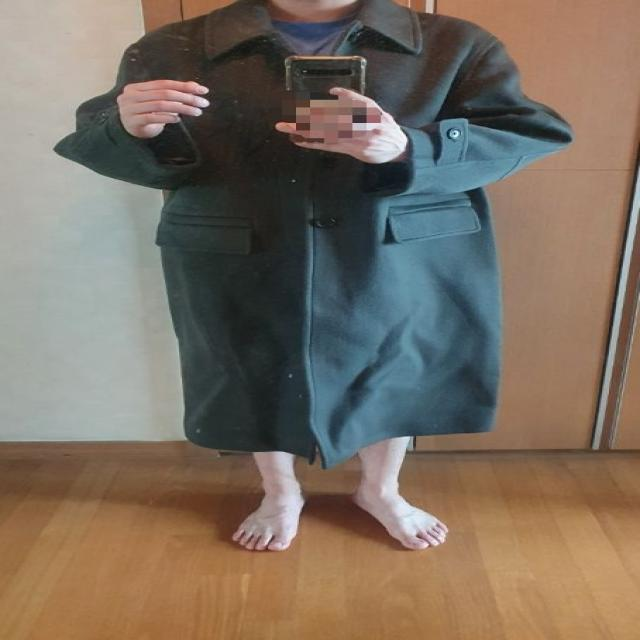coat: (53, 0, 574, 470)
